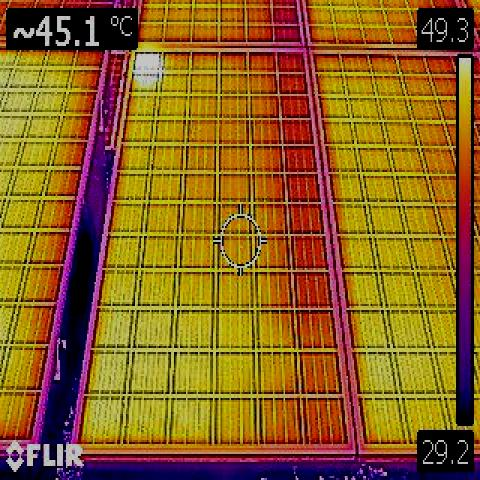fault: (136, 52, 159, 72), (136, 53, 160, 72)
